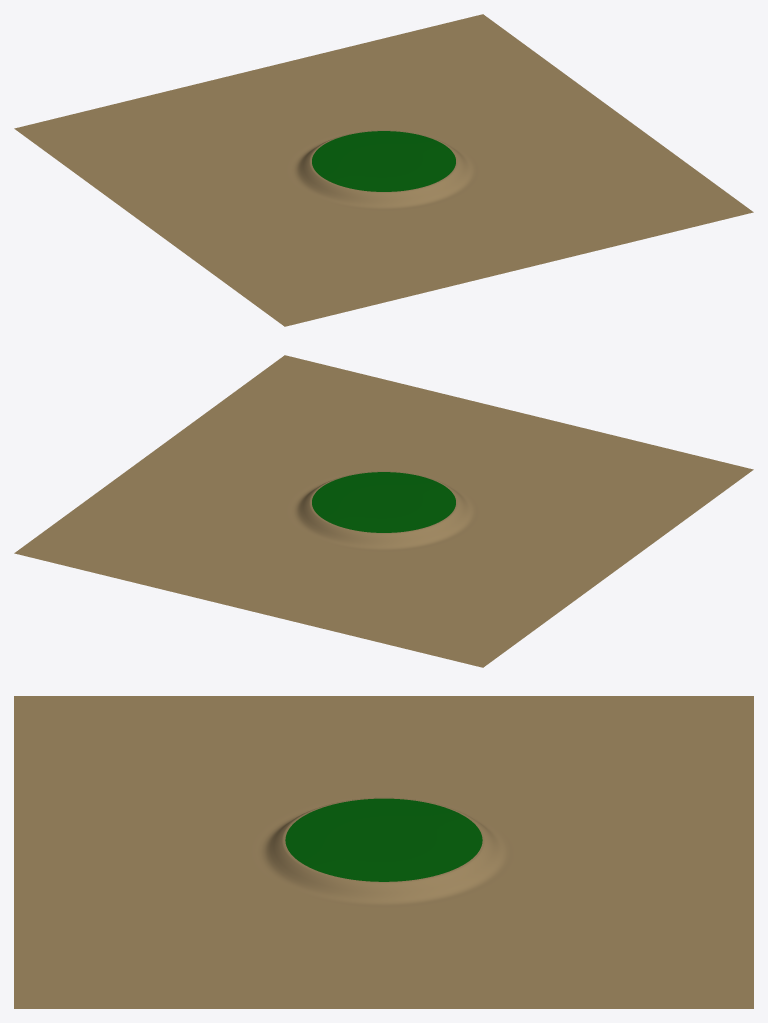
Rendered from TempIsland.fbx.
3 views of the same model, one above another, from view 1: azimuth 30°, elevation 25°; view 2: azimuth 150°, elevation 25°; view 3: azimuth 270°, elevation 25° (orthographic). The views are drawn at different scales.
Visible parts, largest first — view 1: Cube; view 2: Cube; view 3: Cube.
Boxes of the visible parts, left/top/right/bottom form: Cube: left=14, top=14, right=753, bottom=326; Cube: left=14, top=355, right=753, bottom=667; Cube: left=14, top=696, right=753, bottom=1008.
Size of the model in its own units: 9593 by 178 by 9593.
